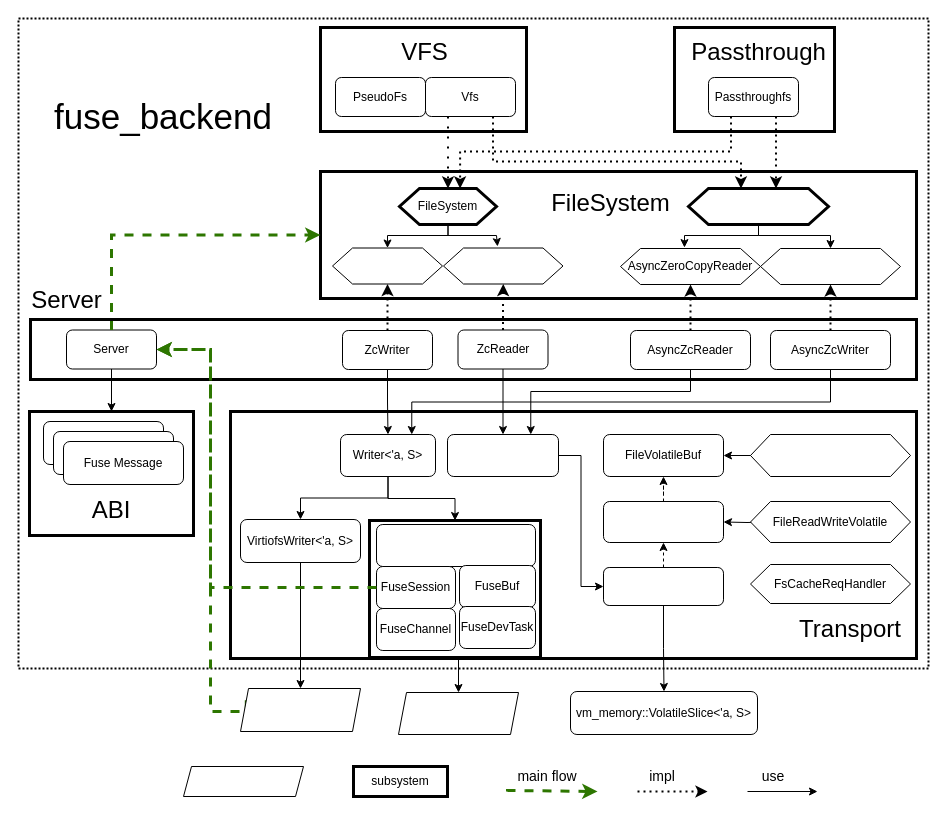
Image size: 946x818. Some labels were removed from this diagram. Here are the shapes that lost their labels. From the top down, the centre of each, then its label:
(758,206): AsyncFileSystem
(387,265): ZeroCopyWriter
(502,265): ZeroCopyReader
(830,266): AsyncZeroCopyWriter
(502,455): Reader<'a, S>
(830,455): AsyncFileReadWriteVolatile
(663,521): FileVolatileSlice<'a>
(456,545): FuseDevWriter<'a, S>
(663,586): IoBuffers<'a, S>
(300,710): virtiofs
(458,713): /dev/fuse
(243,781): external system
